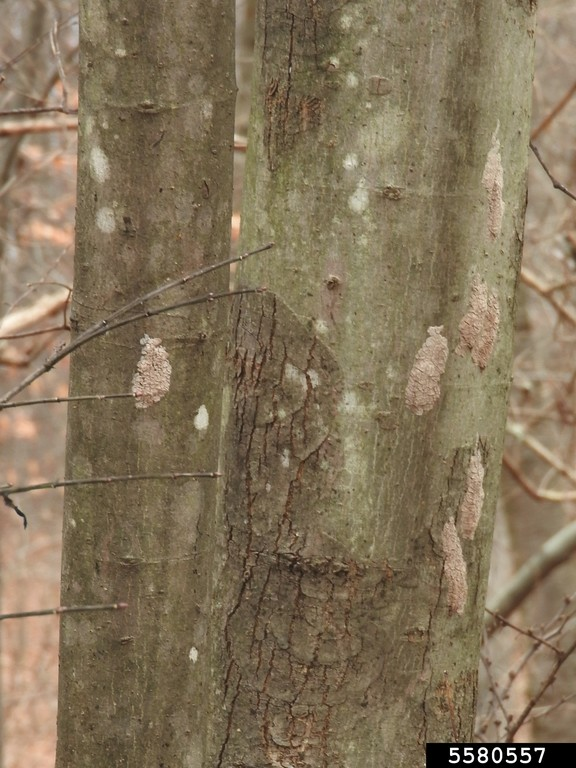egg masses: (380, 295, 452, 415), (412, 517, 471, 619), (107, 324, 172, 408), (450, 274, 502, 369), (450, 434, 490, 540), (482, 176, 507, 237)
